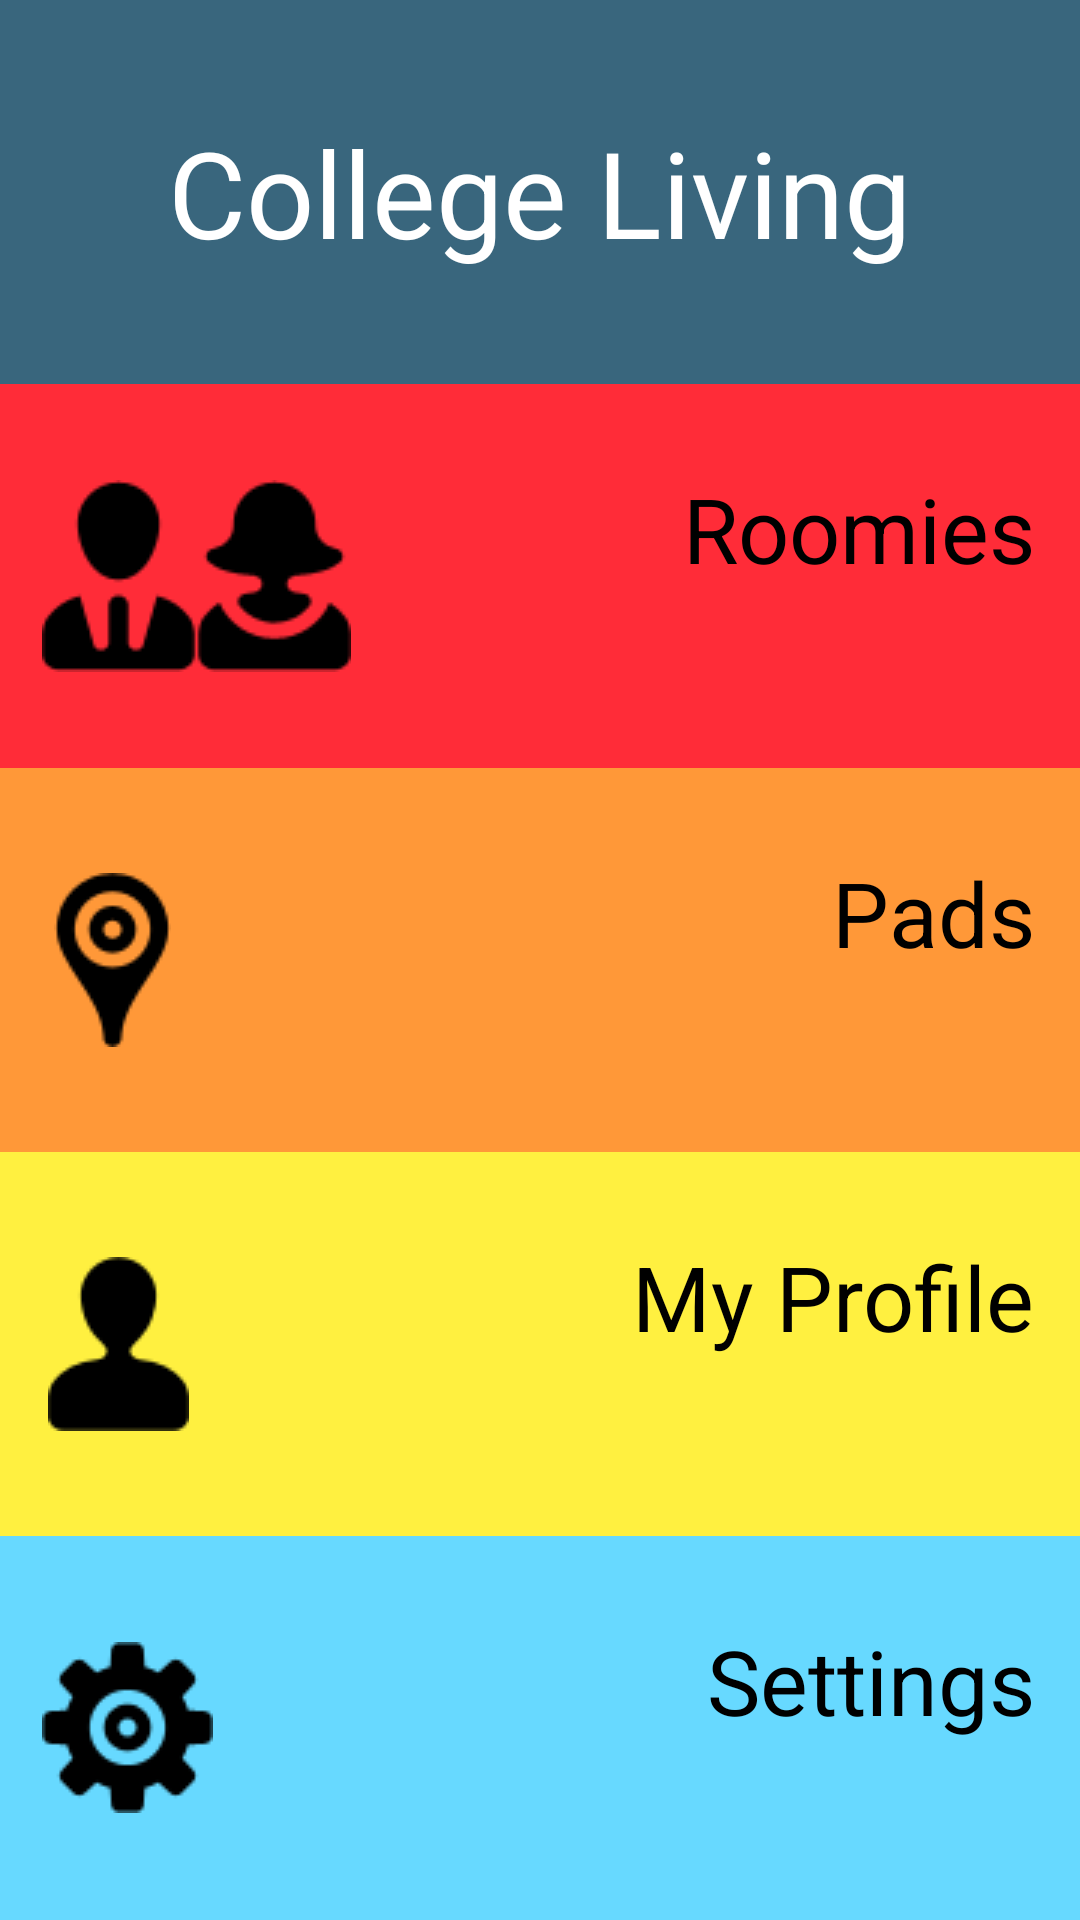

Where icons sit on this 1080×1920 app screen, as BBox(x1, y1, x2, y2):
gear: BBox(42, 1642, 213, 1813)
myprofile: BBox(48, 1257, 189, 1431)
pin: BBox(56, 873, 169, 1047)
